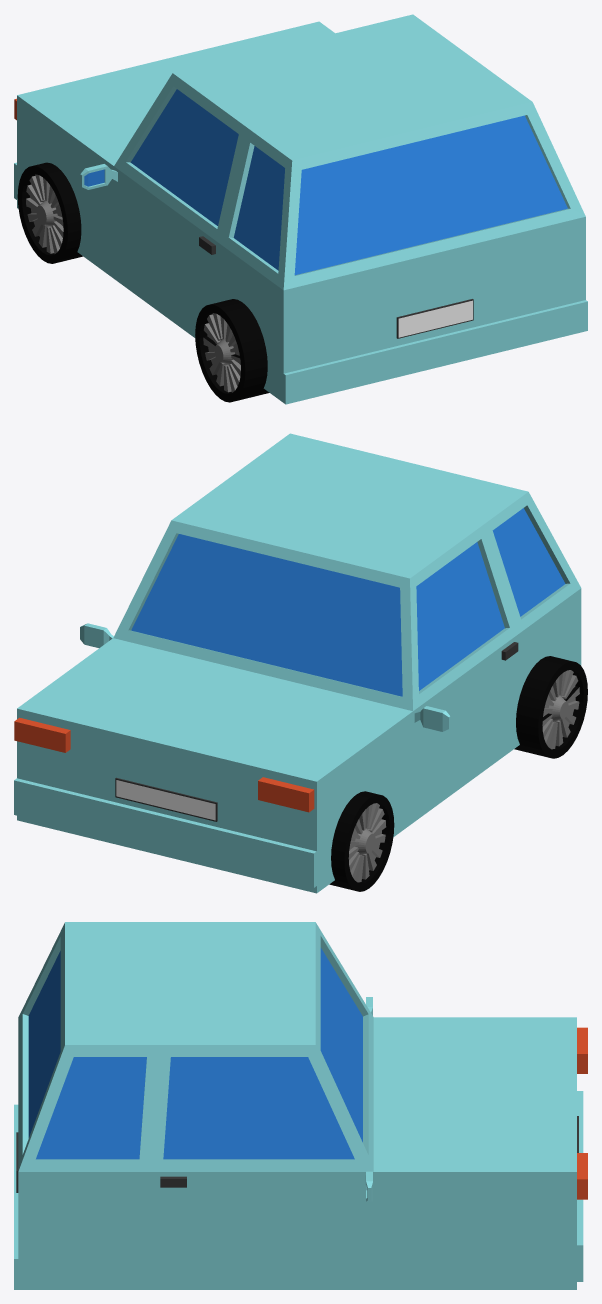
File: cary2.glb
The picture shows the model from 3 angles, top to bottom: view 1: azimuth 30°, elevation 25°; view 2: azimuth 150°, elevation 25°; view 3: azimuth 270°, elevation 25°; orthographic projection. The views are drawn at different scales.
Parts seen in each view (by area): view 1: Cube, Cube.003, Cube.002; view 2: Cube, Cube.003, Cube.002; view 3: Cube.
Boxes of the visible parts, x1,y1,x2,y2 form: Cube: (14, 14, 587, 404); Cube.003: (195, 299, 269, 402); Cube.002: (17, 162, 82, 263); Cube: (14, 433, 581, 893); Cube.003: (514, 656, 587, 758); Cube.002: (329, 791, 394, 891); Cube: (14, 922, 587, 1289).
Bounding box in the file's own units: 6.35 × 3.9 × 8.1.
